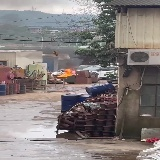fire: (56, 69, 76, 77)
